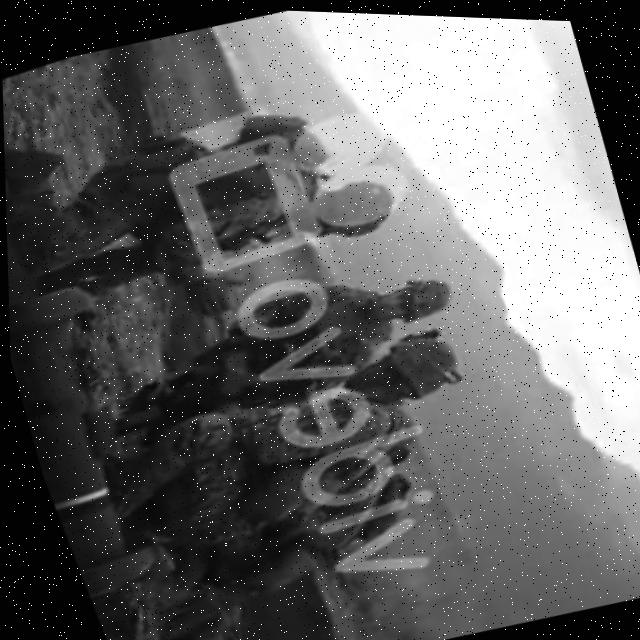rocket: (6, 271, 199, 605)
